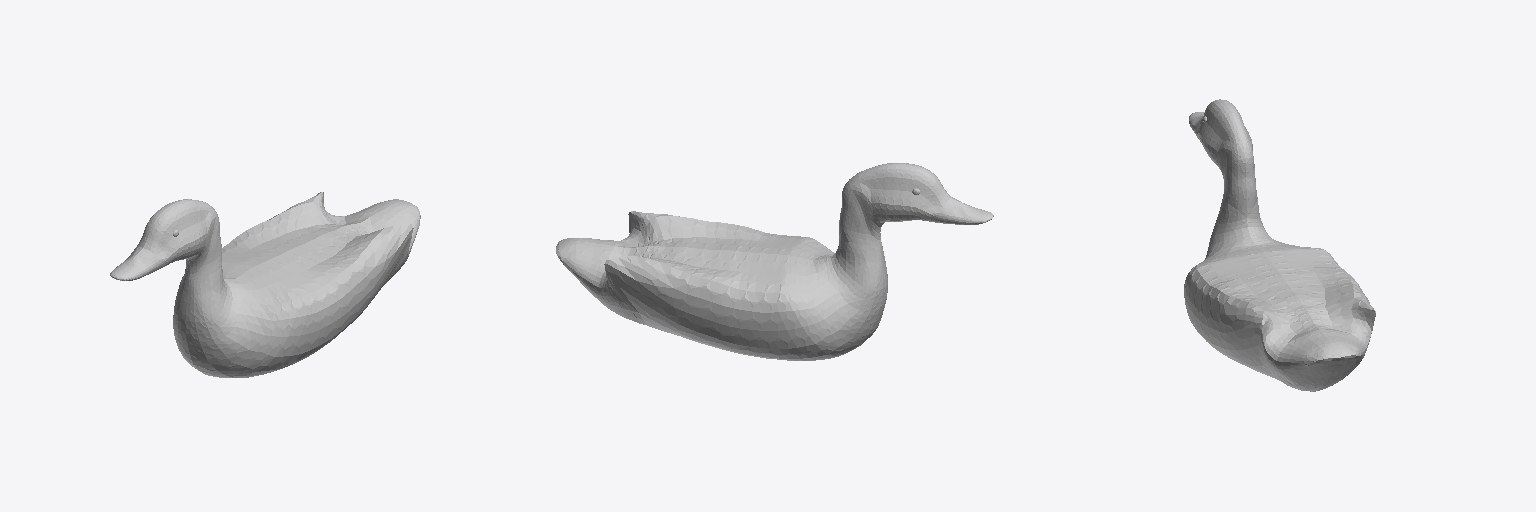
The model's file is duck2.obj.
The picture shows the model from 3 angles: view 1: azimuth 30°, elevation 25°; view 2: azimuth 150°, elevation 25°; view 3: azimuth 270°, elevation 25°; orthographic projection.
Parts seen in each view (by area): view 1: duck.004; view 2: duck.004; view 3: duck.004.
Part boxes in pixels (left/top/right/bottom): duck.004: left=110, top=192, right=420, bottom=377; duck.004: left=556, top=163, right=993, bottom=360; duck.004: left=1184, top=99, right=1375, bottom=391.
Size of the model in its own units: 0.0102 by 0.0052 by 0.0046.